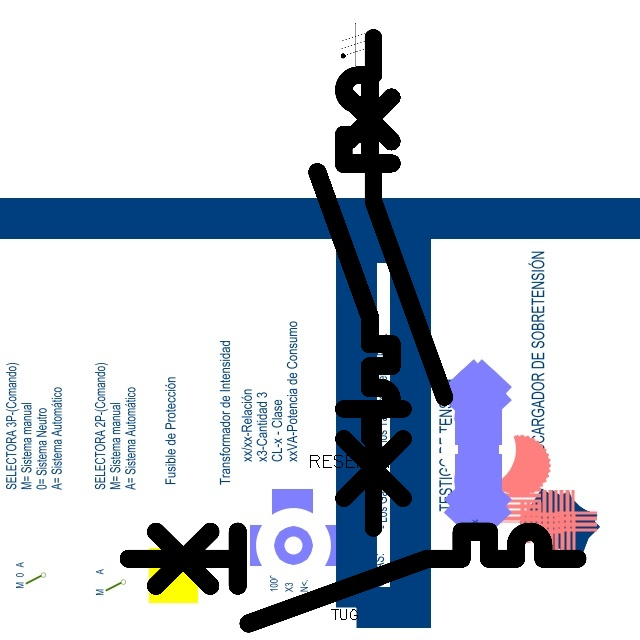interruptor_termomagnetico: (331, 25, 457, 540), (117, 520, 589, 635), (308, 66, 401, 446)
